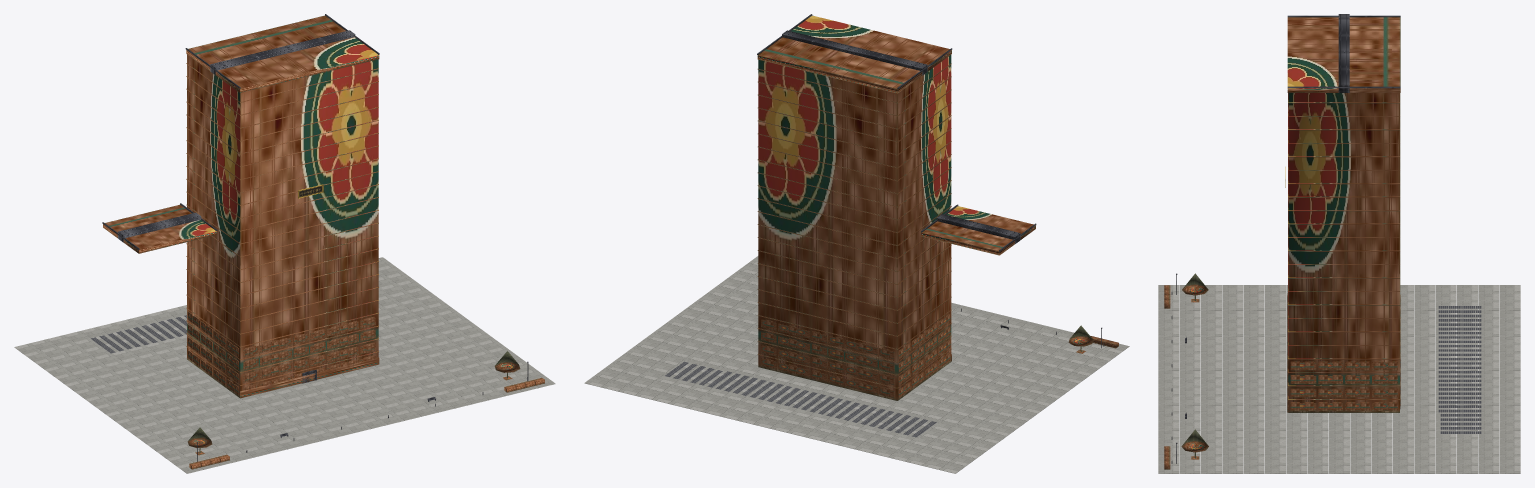
The picture shows the model from 3 angles, left to right: view 1: azimuth 30°, elevation 25°; view 2: azimuth 150°, elevation 25°; view 3: azimuth 270°, elevation 25°; orthographic projection. The views are drawn at different scales.
Visible parts, largest first — view 1: 11680_01_06243_023_02__mass_body_facade, 11680_01_06243_023_01__plinth_ground_base, 11680_01_06243_023_03__roof_metal_ornament, 11680_01_06243_023_05__window_sash_glass, 11680_01_06243_023_06__landscape_greenery, 11680_01_06243_023_03__roof_deck_structure; view 2: 11680_01_06243_023_02__mass_body_facade, 11680_01_06243_023_01__plinth_ground_base, 11680_01_06243_023_03__roof_deck_structure, 11680_01_06243_023_03__roof_metal_ornament, 11680_01_06243_023_06__landscape_greenery; view 3: 11680_01_06243_023_01__plinth_ground_base, 11680_01_06243_023_02__mass_body_facade, 11680_01_06243_023_03__roof_deck_structure, 11680_01_06243_023_03__roof_metal_ornament, 11680_01_06243_023_06__landscape_greenery.
Part boxes in pixels (box(x1,y1,x2,y2)): 11680_01_06243_023_02__mass_body_facade: box(103, 15, 379, 398); 11680_01_06243_023_01__plinth_ground_base: box(14, 257, 555, 473); 11680_01_06243_023_03__roof_metal_ornament: box(102, 14, 379, 249); 11680_01_06243_023_05__window_sash_glass: box(245, 317, 374, 390); 11680_01_06243_023_06__landscape_greenery: box(187, 351, 544, 469); 11680_01_06243_023_03__roof_deck_structure: box(91, 315, 186, 353); 11680_01_06243_023_02__mass_body_facade: box(757, 15, 1035, 400); 11680_01_06243_023_01__plinth_ground_base: box(584, 256, 1129, 473); 11680_01_06243_023_03__roof_deck_structure: box(665, 361, 936, 437); 11680_01_06243_023_03__roof_metal_ornament: box(757, 14, 1036, 251); 11680_01_06243_023_06__landscape_greenery: box(1068, 325, 1118, 353); 11680_01_06243_023_01__plinth_ground_base: box(1158, 285, 1520, 473); 11680_01_06243_023_02__mass_body_facade: box(1287, 17, 1400, 412); 11680_01_06243_023_03__roof_deck_structure: box(1438, 306, 1481, 433); 11680_01_06243_023_03__roof_metal_ornament: box(1287, 14, 1400, 92); 11680_01_06243_023_06__landscape_greenery: box(1164, 273, 1208, 469).
Bounding box in the file's own units: 95.95 × 78.3 × 77.95.
Materials: 7 (7 with a texture image).
